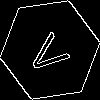V: (25, 25, 78, 80)
